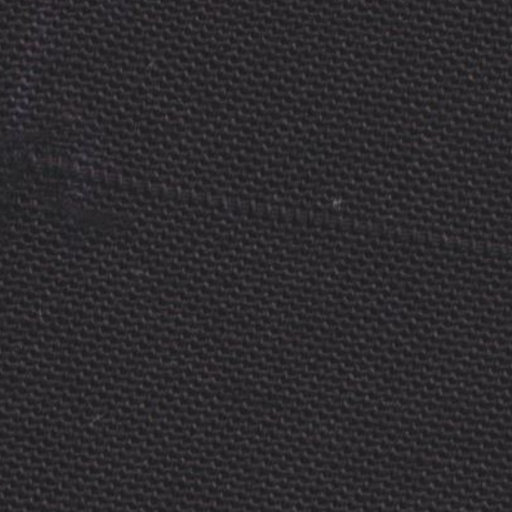DaiSha: (12, 125, 488, 257)
